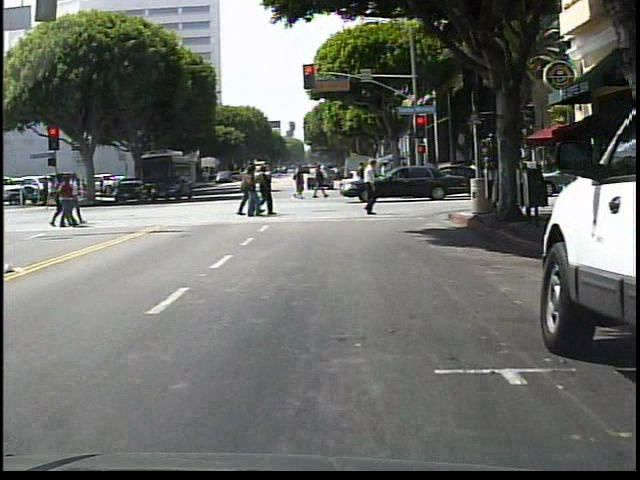person: (353, 157, 389, 222)
